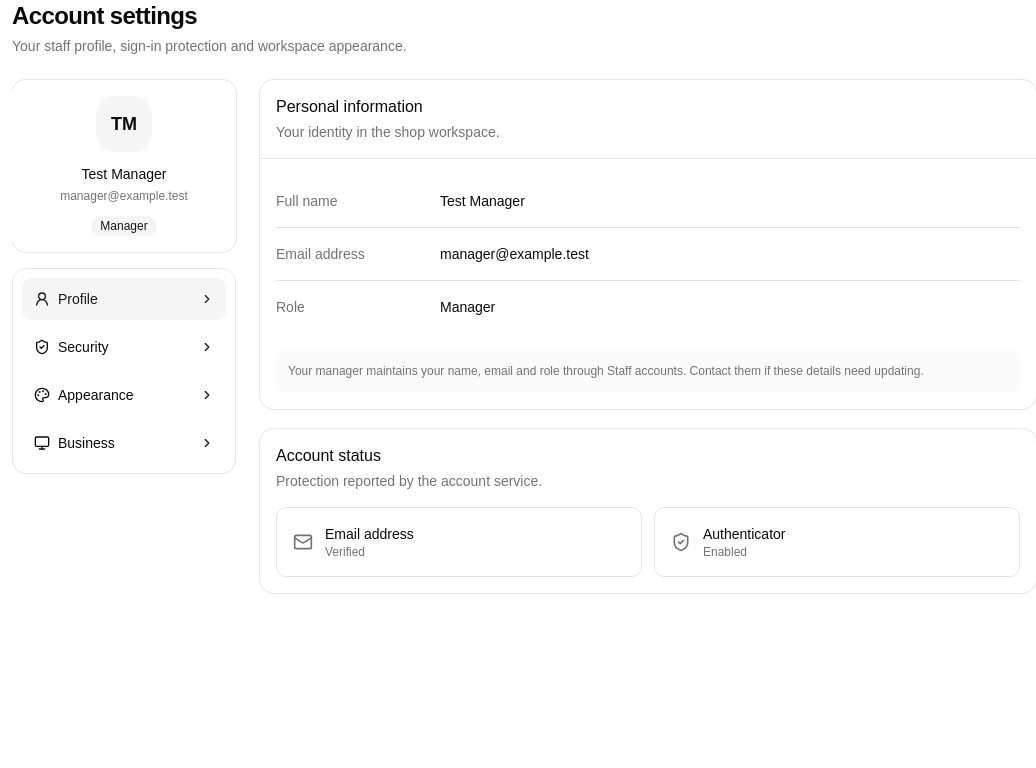
Test case: does not show replacement recovery codes when generation fails
The width and height of the screenshot is (1036, 768).
Click the button "Security" at (124, 347), box top-left (21, 325), bottom-right (227, 369)
(page scrolled)
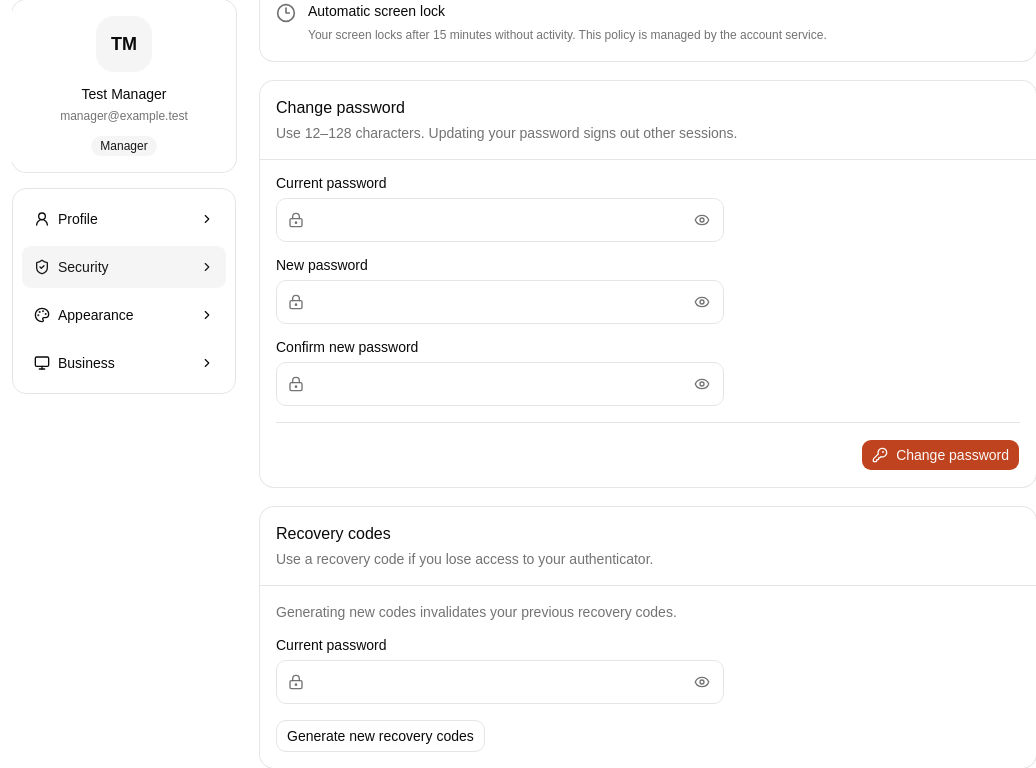
Type "wrong-test-password" into the 2nd password field labelled "Current password" at (500, 682), box top-left (276, 660), bottom-right (724, 704)
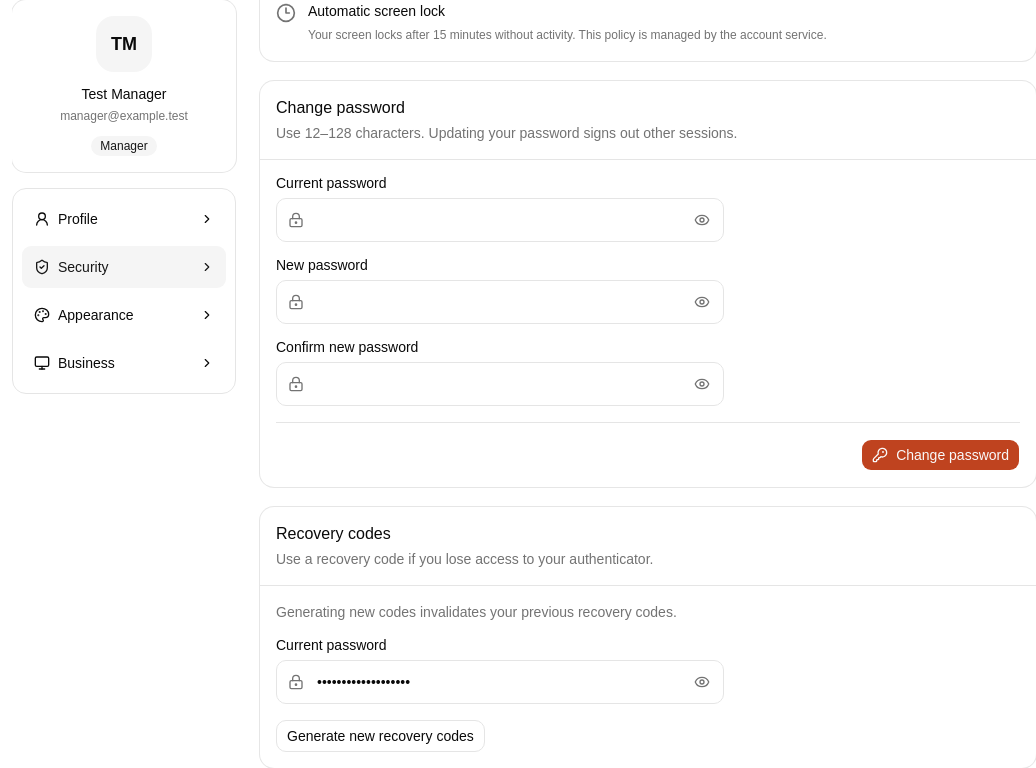
Click the button "Generate new recovery codes" at (380, 736), box top-left (276, 720), bottom-right (485, 752)
(page scrolled)
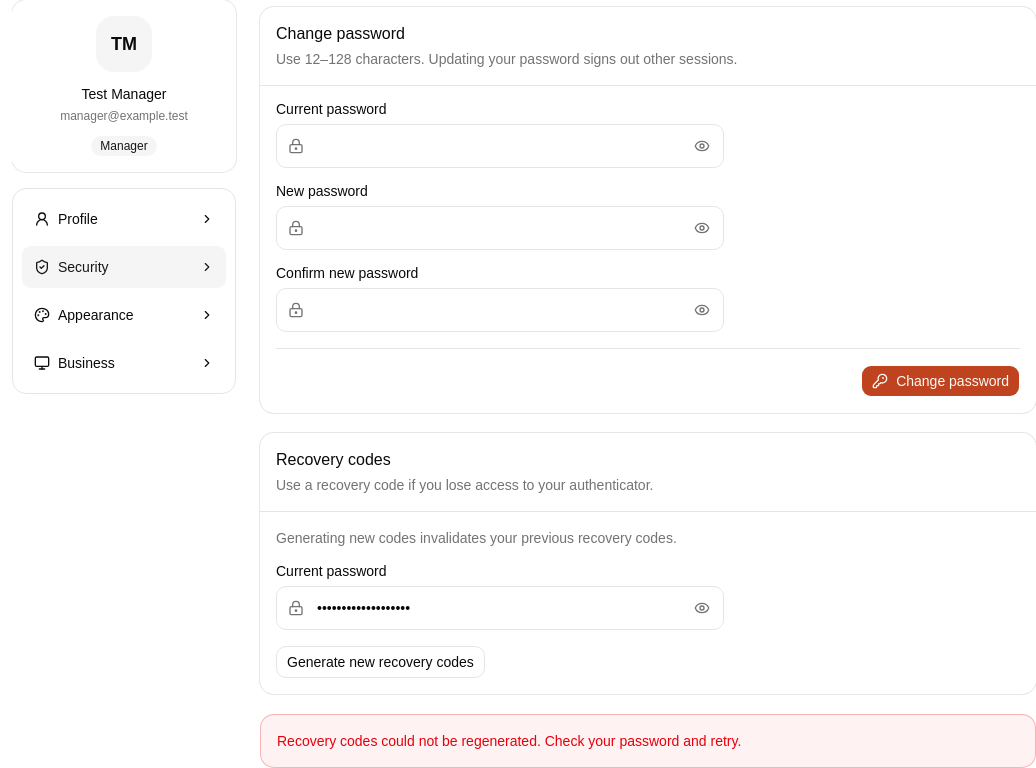
Now the message shows "could not be regenerated", box top-left (277, 733), bottom-right (741, 749)
